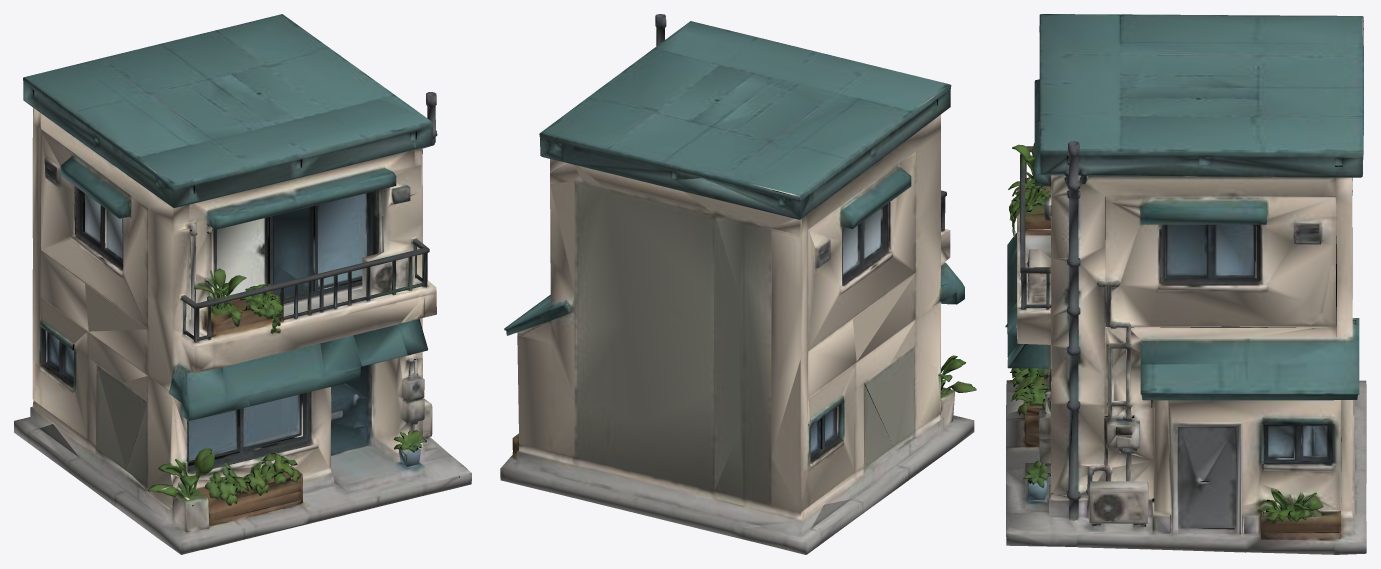
Rendered from building22.glb.
The picture shows the model from 3 angles, left to right: view 1: azimuth 30°, elevation 25°; view 2: azimuth 150°, elevation 25°; view 3: azimuth 270°, elevation 25°; orthographic projection. The views are drawn at different scales.
Parts seen in each view (by area): view 1: lo; view 2: lo; view 3: lo.
Boxes of the visible parts, bbox=[...] form: lo: bbox=[14, 14, 471, 554]; lo: bbox=[500, 14, 976, 554]; lo: bbox=[1005, 14, 1366, 554].
Size of the model in its own units: 0.9218 by 0.9814 by 0.8088.
1 material, 1 textured.
